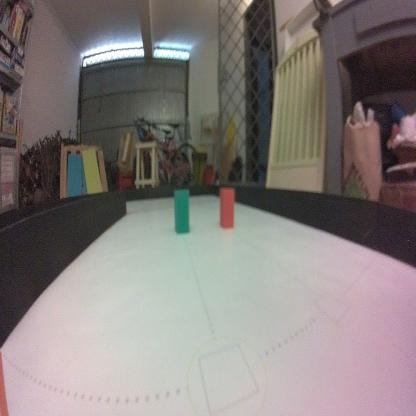green: (172, 186, 190, 235)
red: (218, 186, 236, 231)
